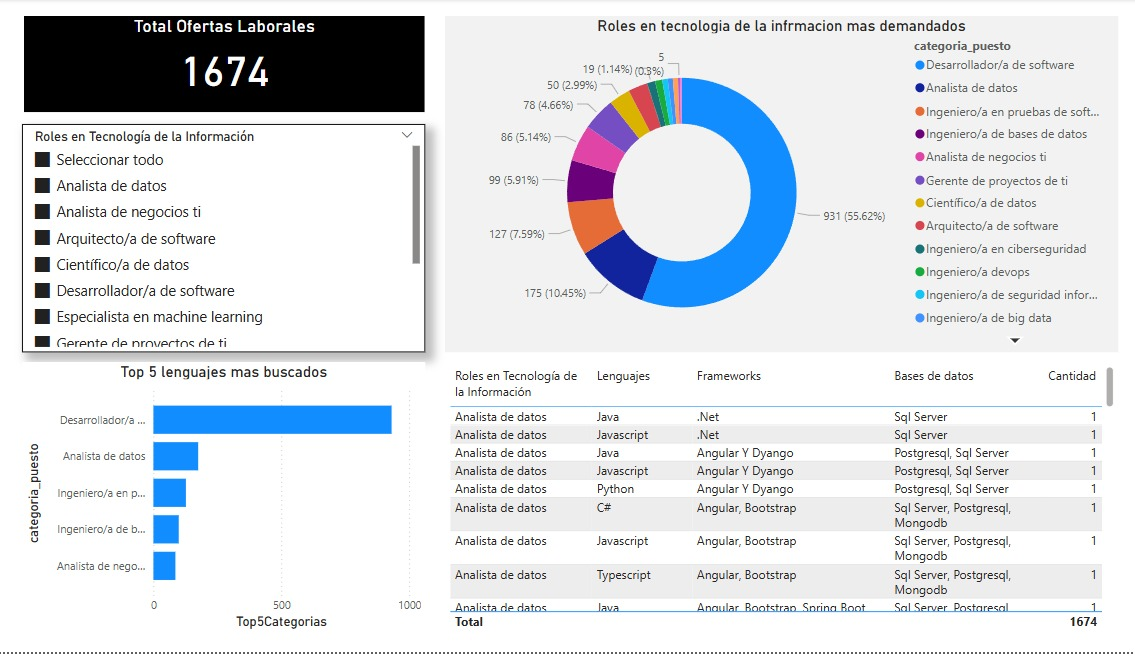

The page's visual inventory and layout, read from the dashboard file:
{"tool":"powerbi","page":{"name":"Página 3","canvas":[1280,720],"ordinal":2},"visuals":[{"type":"slicer","fields":{"Values":["ofertas_final_parquet (2).categoria_puesto"]},"box":[39.7,137.9,444.7,251.6],"z":0},{"type":"donutChart","title":"Roles en tecnologia de la infrmacion mas demandados","fields":{"Category":["ofertas_final_parquet (2).categoria_puesto"],"Y":["CountNonNull(ofertas_final_parquet (2).id_oferta)"]},"box":[506.5,18.8,742.6,370.8],"z":1000},{"type":"card","title":"Total Ofertas Laborales","fields":{"Values":["CountNonNull(ofertas_final_parquet (2).id_oferta)"]},"box":[41.9,18.8,442.5,105.9],"z":2000},{"type":"tableEx","fields":{"Values":["ofertas_final_parquet (2).categoria_puesto","ofertas_final_parquet (2).Valor","ofertas_final_parquet (2).frameworks_lista","ofertas_final_parquet (2).bases_datos_lista","CountNonNull(ofertas_final_parquet (2).categoria_puesto)"]},"box":[506,401,743.1,299.8],"z":3000},{"type":"barChart","title":"Top 5 roles mas buscados","fields":{"Category":["ofertas_final_parquet (2).categoria_puesto"],"Y":["ofertas_final_parquet (2).Top5Categorias"]},"box":[39.5,401,445.3,299.8],"z":4000}]}

Visuals, with their boxes on the page's 1280x720 design canvas (x1, y1, x2, y2). These are canvas units, not pixel positions in the 1135x659 screenshot, which may show the page scaled, cropped or inside an application window:
slicer - ofertas_final_parquet (2).categoria_puesto: x1=40 y1=138 x2=484 y2=390
"Roles en tecnologia de la infrmacion mas demandados" donutChart: x1=506 y1=19 x2=1249 y2=390
"Total Ofertas Laborales" card: x1=42 y1=19 x2=484 y2=125
tableEx - ofertas_final_parquet (2).categoria_puesto x ofertas_final_parquet (2).Valor: x1=506 y1=401 x2=1249 y2=701
"Top 5 roles mas buscados" barChart: x1=40 y1=401 x2=485 y2=701
